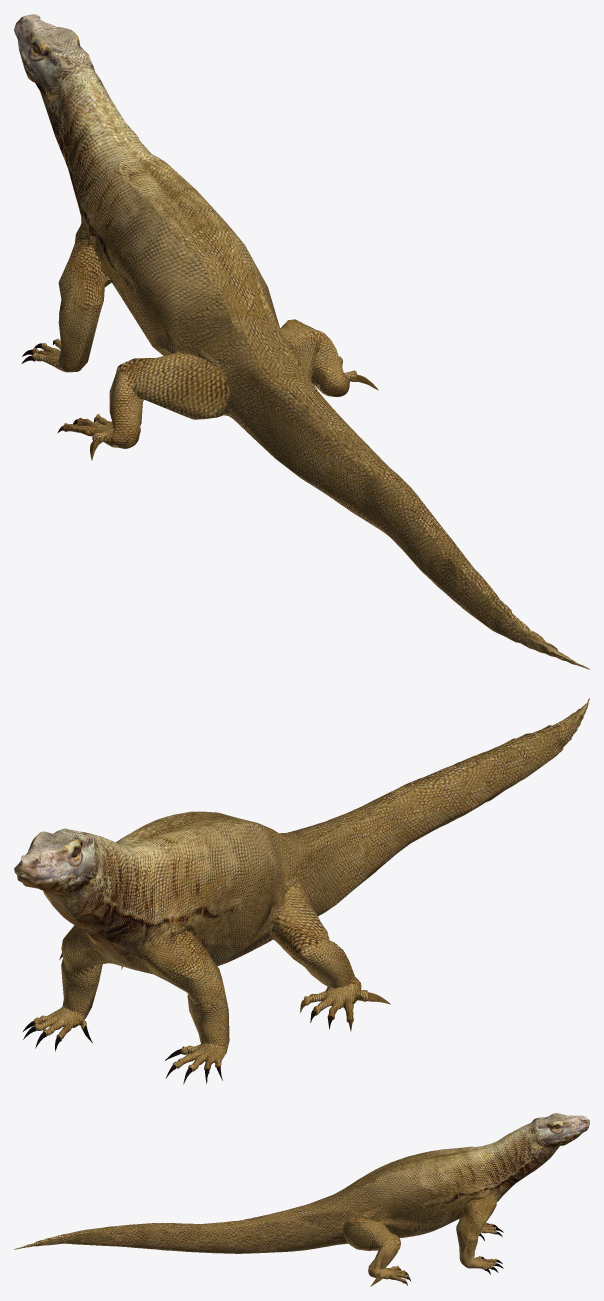
File: monitor_lizard.glb
3 renders of one model, top to bottom at view 1: azimuth 30°, elevation 25°; view 2: azimuth 150°, elevation 25°; view 3: azimuth 270°, elevation 25°, orthographic. The views are drawn at different scales.
Visible parts, largest first — view 1: 3DSMeshMatrix; view 2: 3DSMeshMatrix; view 3: 3DSMeshMatrix.
Part boxes in pixels (bbox=[...]): 3DSMeshMatrix: bbox=[14, 14, 589, 669]; 3DSMeshMatrix: bbox=[14, 698, 589, 1071]; 3DSMeshMatrix: bbox=[14, 1113, 589, 1283].
Bounding box in the file's own units: 3020 × 2625 × 10182.
Materials: 19 (16 with a texture image).
